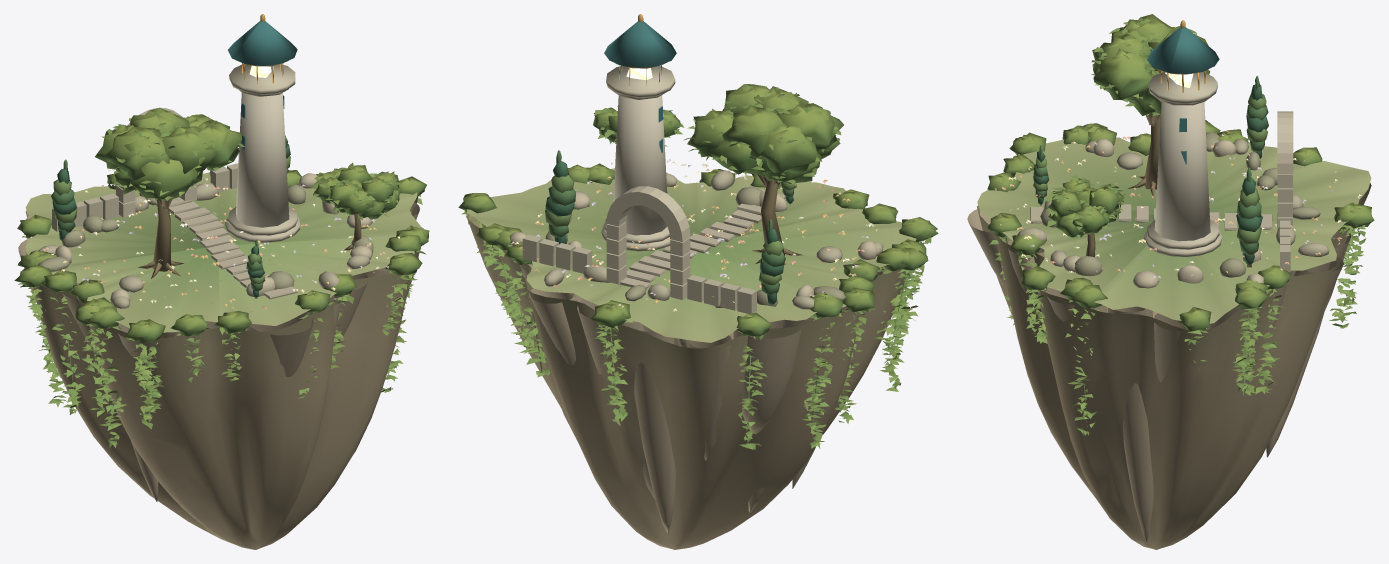
The model's file is lighthouse-distant.glb.
The picture shows the model from 3 angles, left to right: view 1: azimuth 30°, elevation 25°; view 2: azimuth 150°, elevation 25°; view 3: azimuth 270°, elevation 25°; orthographic projection. The views are drawn at different scales.
Visible parts, largest first — view 1: lighthouse_fixed_Warm limestone_distant, lighthouse_fixed_Garden foliage_distant, lighthouse_fixed_Enamel_distant, lighthouse_fixed_Oiled cedar_distant, lighthouse_fixed_Flower petals_distant; view 2: lighthouse_fixed_Warm limestone_distant, lighthouse_fixed_Garden foliage_distant, lighthouse_fixed_Enamel_distant, lighthouse_fixed_Flower petals_distant, lighthouse_fixed_Oiled cedar_distant; view 3: lighthouse_fixed_Warm limestone_distant, lighthouse_fixed_Garden foliage_distant, lighthouse_fixed_Enamel_distant, lighthouse_fixed_Flower petals_distant, lighthouse_fixed_Oiled cedar_distant.
Part boxes in pixels (left/top/right/bottom): lighthouse_fixed_Warm limestone_distant: left=18, top=64, right=419, bottom=549; lighthouse_fixed_Garden foliage_distant: left=14, top=107, right=429, bottom=448; lighthouse_fixed_Enamel_distant: left=228, top=21, right=297, bottom=149; lighthouse_fixed_Oiled cedar_distant: left=138, top=199, right=361, bottom=298; lighthouse_fixed_Flower petals_distant: left=43, top=170, right=399, bottom=311; lighthouse_fixed_Warm limestone_distant: left=466, top=65, right=905, bottom=549; lighthouse_fixed_Garden foliage_distant: left=458, top=84, right=938, bottom=449; lighthouse_fixed_Enamel_distant: left=604, top=21, right=676, bottom=152; lighthouse_fixed_Flower petals_distant: left=511, top=159, right=877, bottom=312; lighthouse_fixed_Oiled cedar_distant: left=752, top=174, right=802, bottom=306; lighthouse_fixed_Warm limestone_distant: left=967, top=72, right=1371, bottom=549; lighthouse_fixed_Garden foliage_distant: left=977, top=14, right=1374, bottom=435; lighthouse_fixed_Enamel_distant: left=1147, top=27, right=1219, bottom=164; lighthouse_fixed_Flower petals_distant: left=994, top=130, right=1361, bottom=278; lighthouse_fixed_Oiled cedar_distant: left=1040, top=113, right=1251, bottom=267.
Size of the model in its own units: 12.05 by 14.84 by 10.17.
